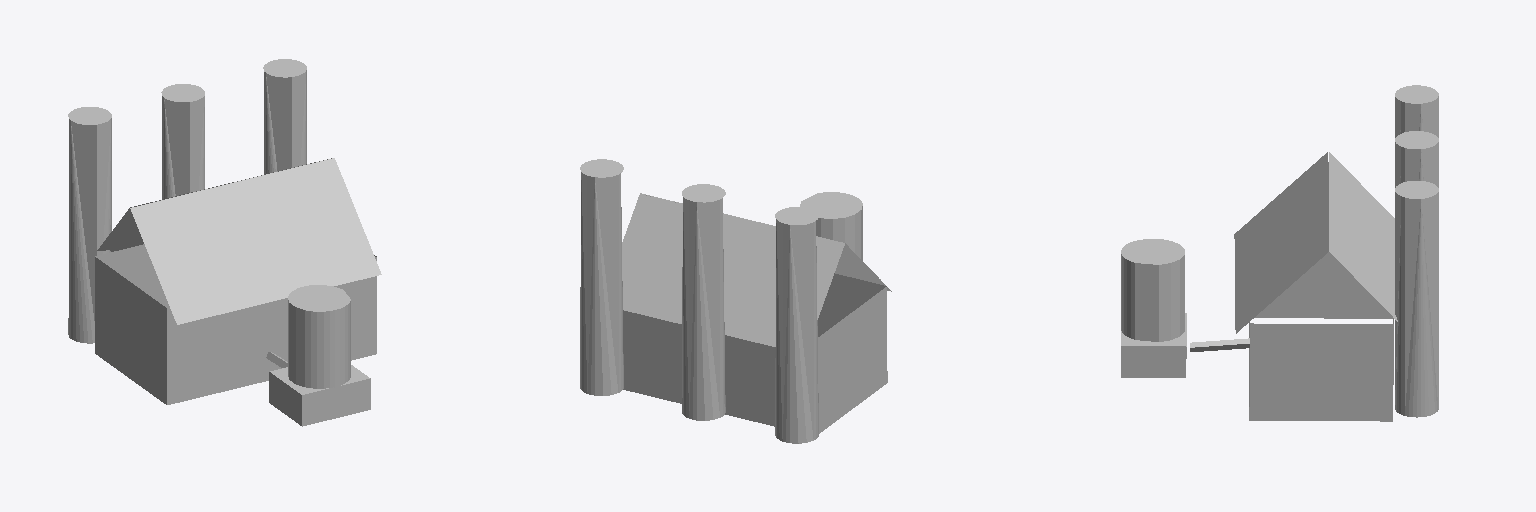
File: oil_refinery.obj
3 renders of one model, left to right at view 1: azimuth 30°, elevation 25°; view 2: azimuth 150°, elevation 25°; view 3: azimuth 270°, elevation 25°, orthographic.
Visible parts, largest first — view 1: Plane.002, Cube.001, Cylinder.002_Cylinder.003, Cylinder.004_Cylinder.007, Cylinder.002_Cylinder.002, Cylinder.002_Cylinder.001, Cube.004_Cube.005; view 2: Cube.001, Plane.002, Cylinder.002_Cylinder.003, Cylinder.002_Cylinder.002, Cylinder.002_Cylinder.001, Cylinder.004_Cylinder.007; view 3: Cube.001, Plane.002, Cylinder.002_Cylinder.002, Cylinder.004_Cylinder.007, Cube.004_Cube.005, Cylinder.002_Cylinder.001, Cylinder.002_Cylinder.003, Cylinder.003_Cylinder.006.
Part boxes in pixels (bbox=[...]): Plane.002: bbox=[97, 158, 381, 324]; Cube.001: bbox=[95, 244, 376, 404]; Cylinder.002_Cylinder.003: bbox=[68, 107, 111, 343]; Cylinder.004_Cylinder.007: bbox=[288, 285, 350, 388]; Cylinder.002_Cylinder.002: bbox=[263, 59, 306, 174]; Cylinder.002_Cylinder.001: bbox=[161, 84, 204, 199]; Cube.004_Cube.005: bbox=[269, 365, 370, 426]; Cube.001: bbox=[623, 273, 887, 433]; Plane.002: bbox=[622, 193, 891, 346]; Cylinder.002_Cylinder.003: bbox=[775, 207, 818, 443]; Cylinder.002_Cylinder.002: bbox=[580, 159, 623, 395]; Cylinder.002_Cylinder.001: bbox=[682, 184, 725, 420]; Cylinder.004_Cylinder.007: bbox=[800, 192, 862, 260]; Cube.001: bbox=[1249, 252, 1393, 421]; Plane.002: bbox=[1234, 152, 1397, 333]; Cylinder.002_Cylinder.002: bbox=[1395, 181, 1438, 417]; Cylinder.004_Cylinder.007: bbox=[1121, 239, 1184, 341]; Cube.004_Cube.005: bbox=[1121, 313, 1186, 377]; Cylinder.002_Cylinder.001: bbox=[1395, 131, 1438, 187]; Cylinder.002_Cylinder.003: bbox=[1395, 85, 1438, 137]; Cylinder.003_Cylinder.006: bbox=[1190, 338, 1249, 351].
Bounding box in the file's own units: 7.39 × 6.89 × 8.72.